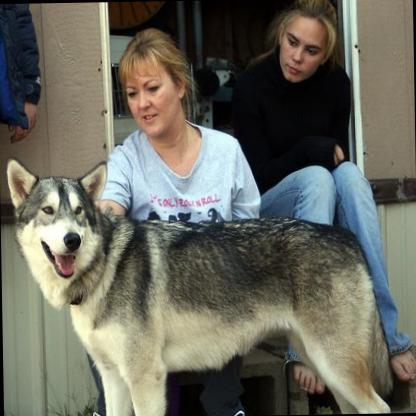malamute: (4, 147, 392, 416)
